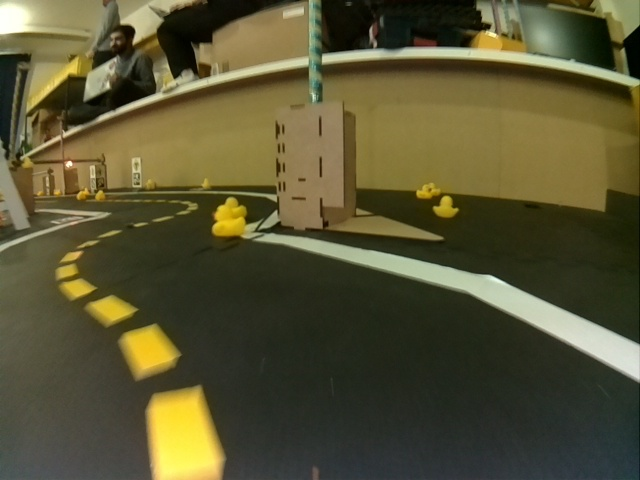Duckie: (212, 206, 245, 236), (434, 196, 458, 217), (228, 196, 244, 218), (417, 186, 431, 198), (432, 183, 441, 196), (145, 179, 155, 189), (202, 179, 211, 189), (77, 191, 86, 201), (96, 191, 105, 200)
Traffic light: (64, 159, 73, 167)
